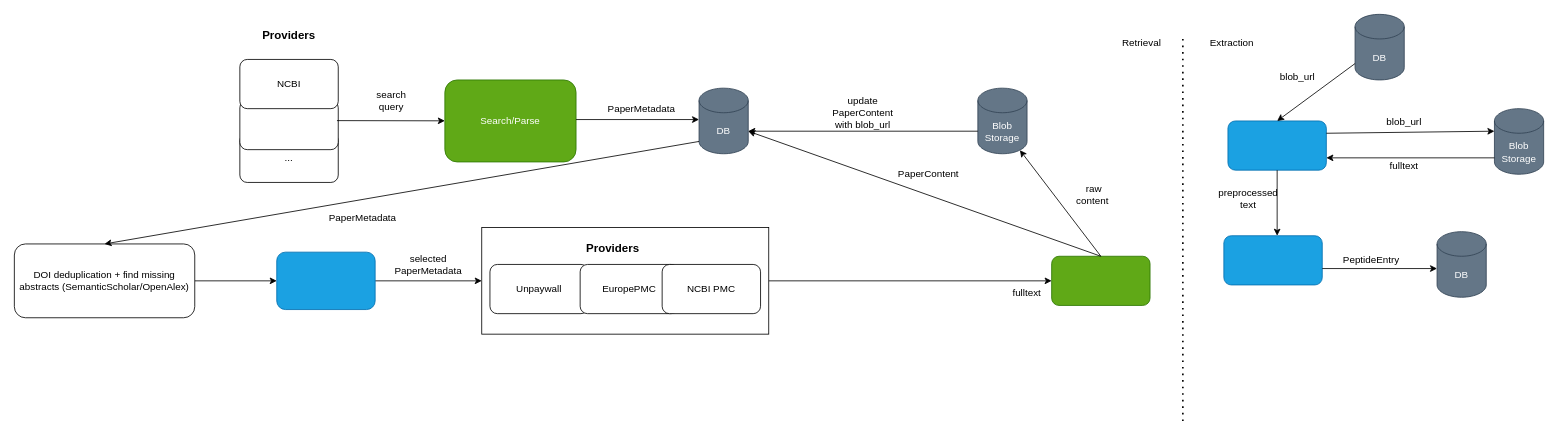
This 1558x440 diagram has some shape labels left out. Here are the shapes that lost their labels. From the top down, the centre of each, then its label:
At point (288, 125): "Scopus".
At point (1276, 145): "Preprocessing".
At point (325, 280): "LLM supported relevance check (title and abstract) and filtering".
At point (1100, 280): "Fetch".
At point (1272, 260): "LLM".
